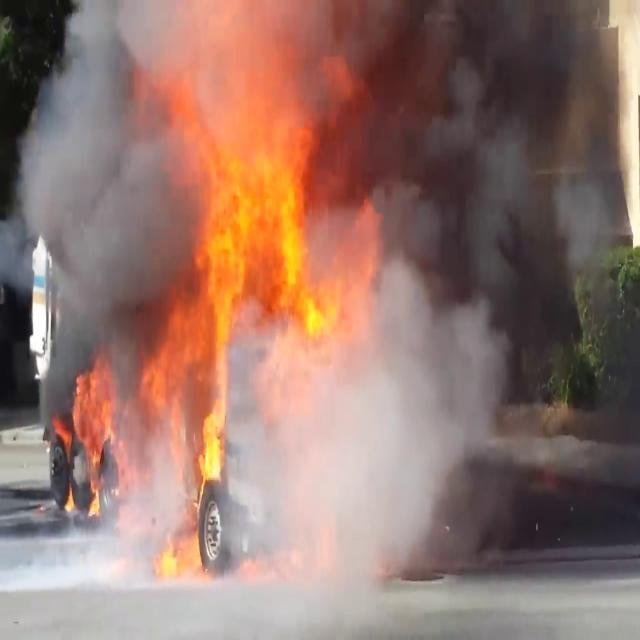Fire: (143, 4, 385, 514), (60, 356, 124, 514)
Smoke: (308, 0, 640, 531), (0, 1, 206, 396)
